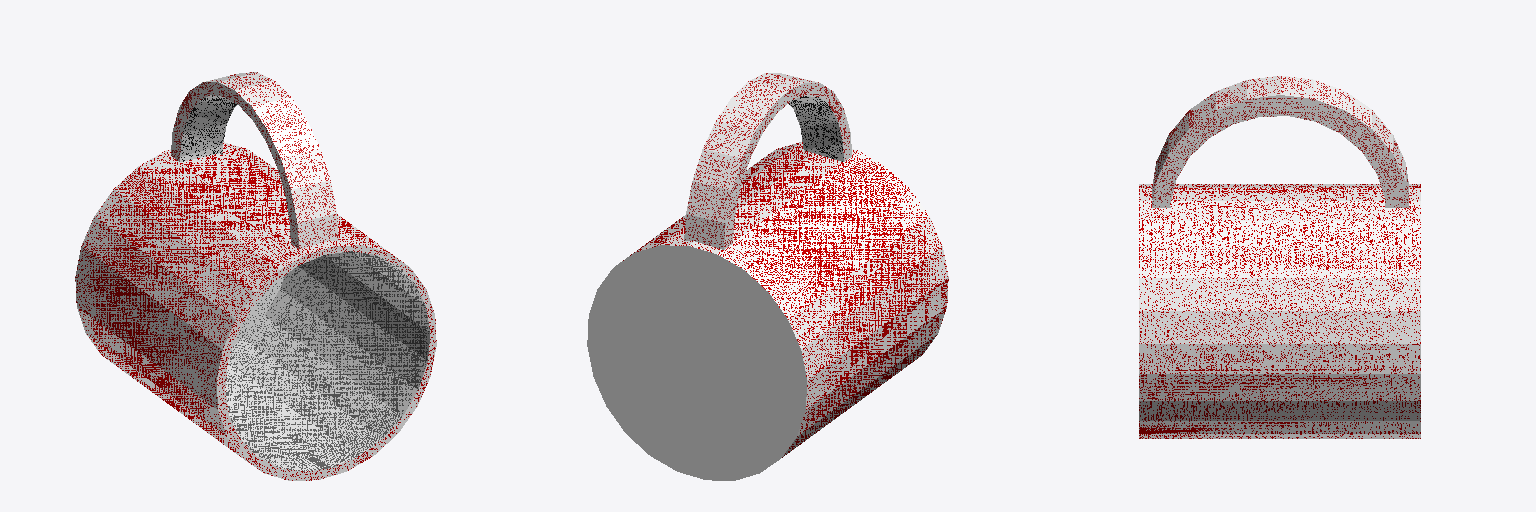
The model's file is model_align.obj.
3 renders of one model, left to right at view 1: azimuth 30°, elevation 25°; view 2: azimuth 150°, elevation 25°; view 3: azimuth 270°, elevation 25°, orthographic.
Bounding box in the file's own units: 0.0851 × 0.1259 × 0.0947.